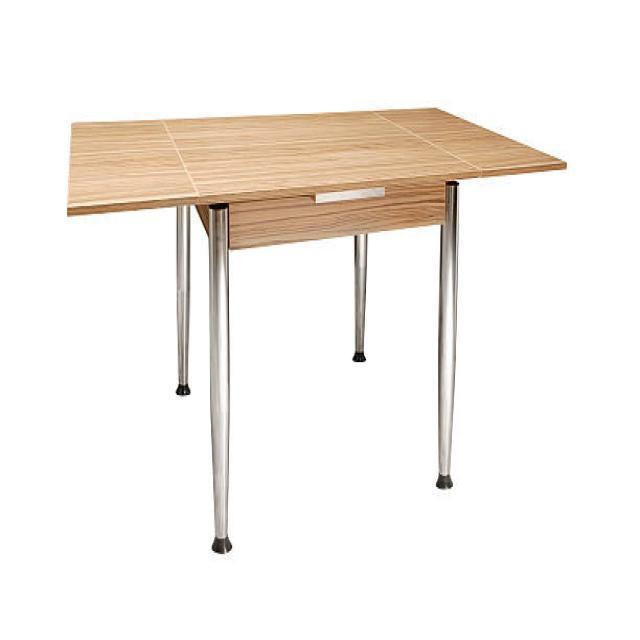table: (66, 105, 567, 552)
